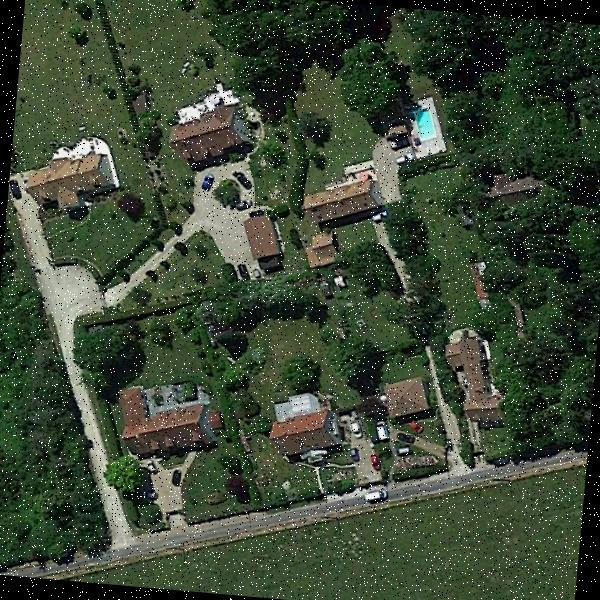Buildings: (120, 385, 222, 459), (23, 153, 114, 213), (274, 390, 338, 457), (451, 330, 497, 418), (314, 177, 386, 224), (178, 115, 244, 165), (387, 377, 424, 418), (243, 214, 280, 252)
